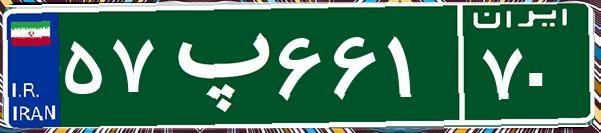0: (525, 38, 570, 115)
1: (385, 28, 445, 110)
5: (57, 26, 110, 107)
6: (273, 28, 330, 110), (330, 28, 385, 110)
7: (475, 38, 525, 113), (110, 28, 158, 105)
پ: (158, 15, 273, 115)
